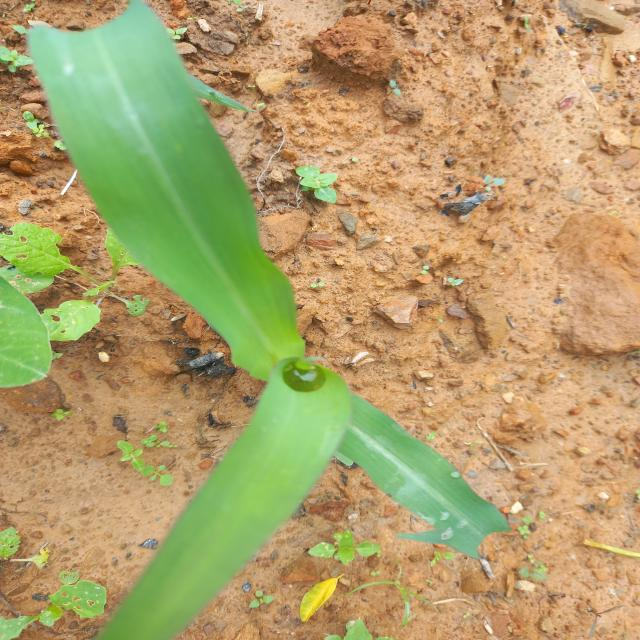maize: (77, 56, 286, 605), (245, 339, 510, 533)
weed: (0, 224, 96, 392), (0, 521, 85, 633), (314, 540, 403, 638), (296, 160, 350, 206)
